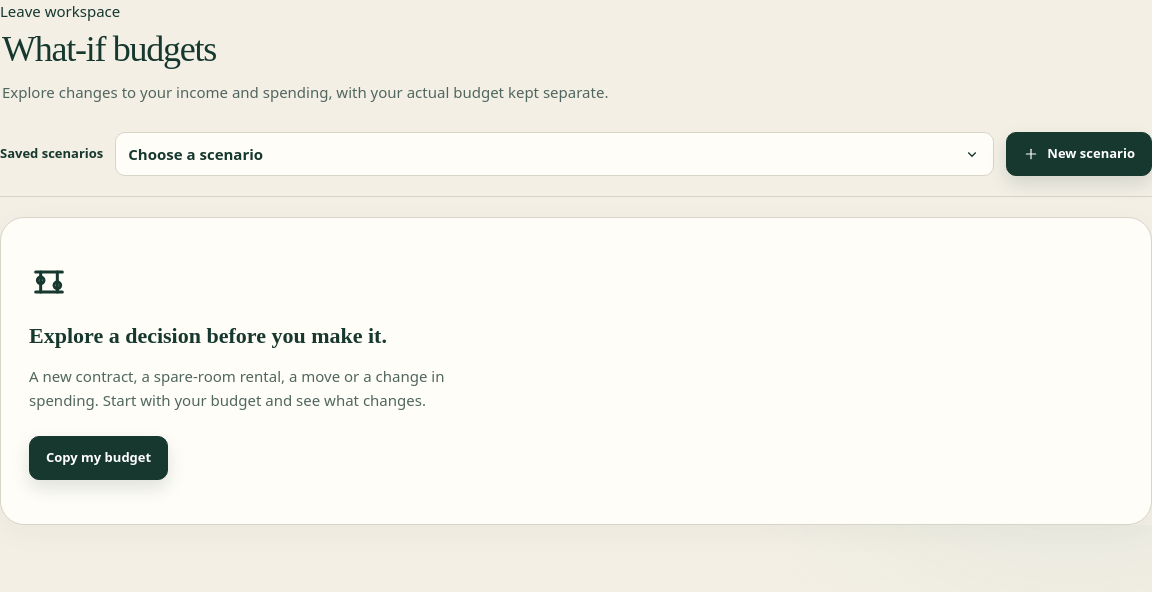
Test: workspace integration › reloads the latest saved version after a conflict with explicit confirmation
Press ArrowDown in the dropdown named "Saved scenarios", box [115,132,994,176]
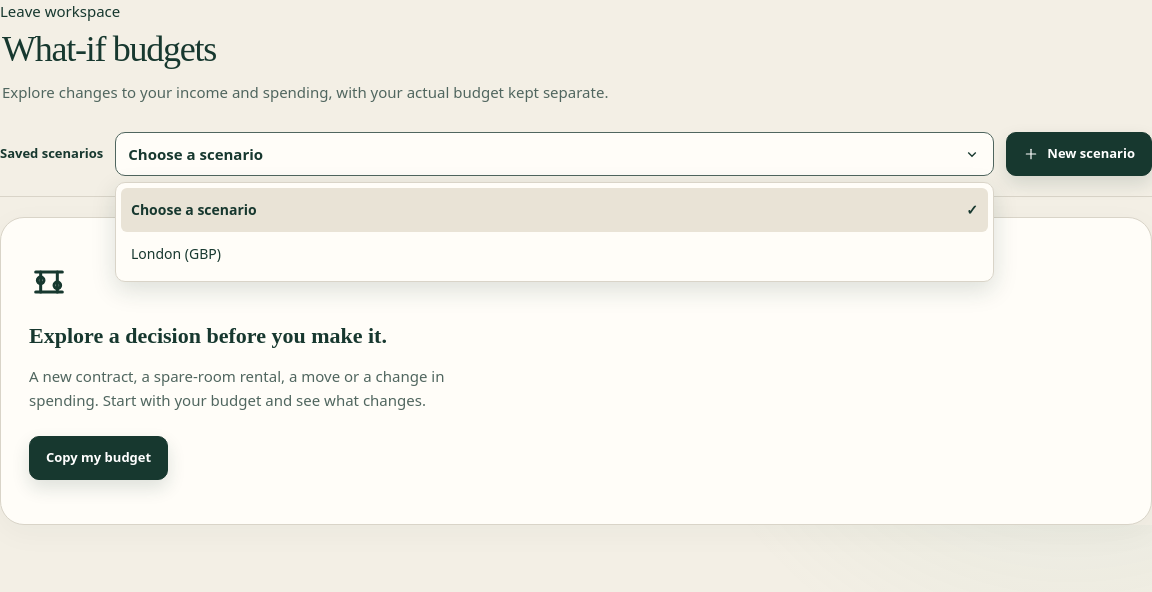
Press Enter in the option "London (GBP)", box [131,244,221,263]
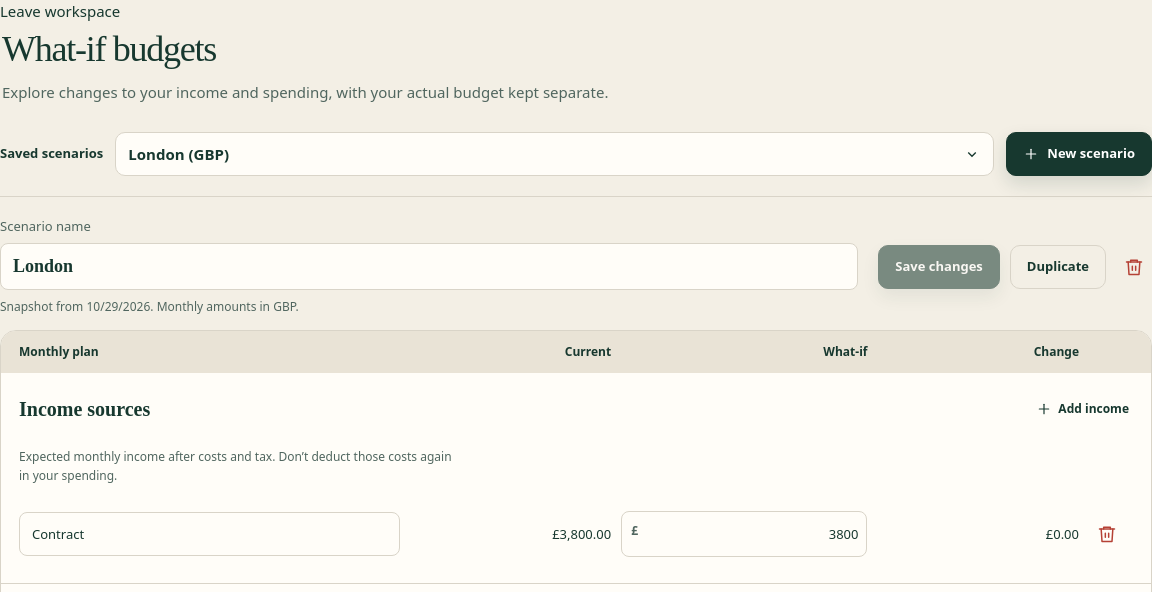
Replace the text in the field named "Contract monthly amount" with "5000". click: (752, 534)
box: [638,512,866,556]
Wait 6000 ms
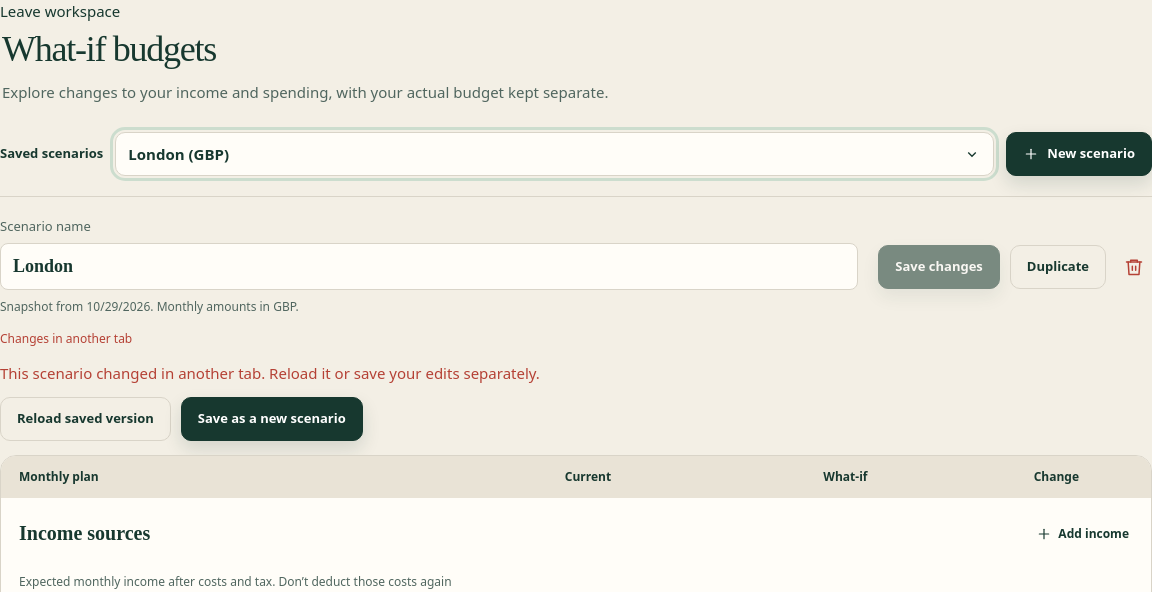
Click the button "Reload saved version". click: (85, 419)
box: [0,397,171,441]
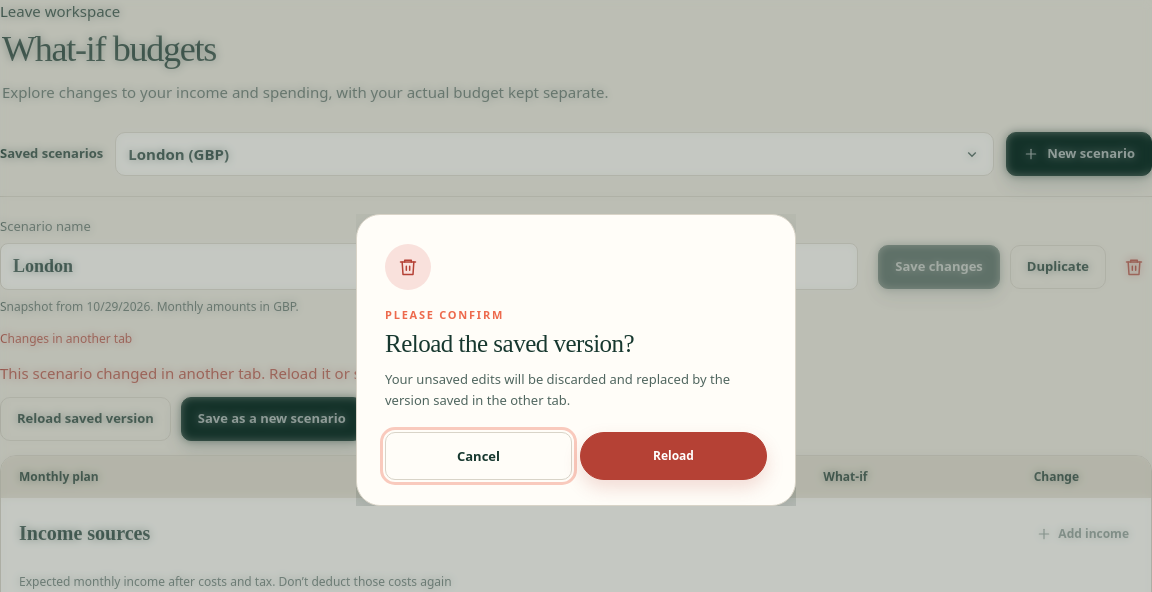
Click the button "Reload". click: (674, 456)
box: [580,432,767,480]
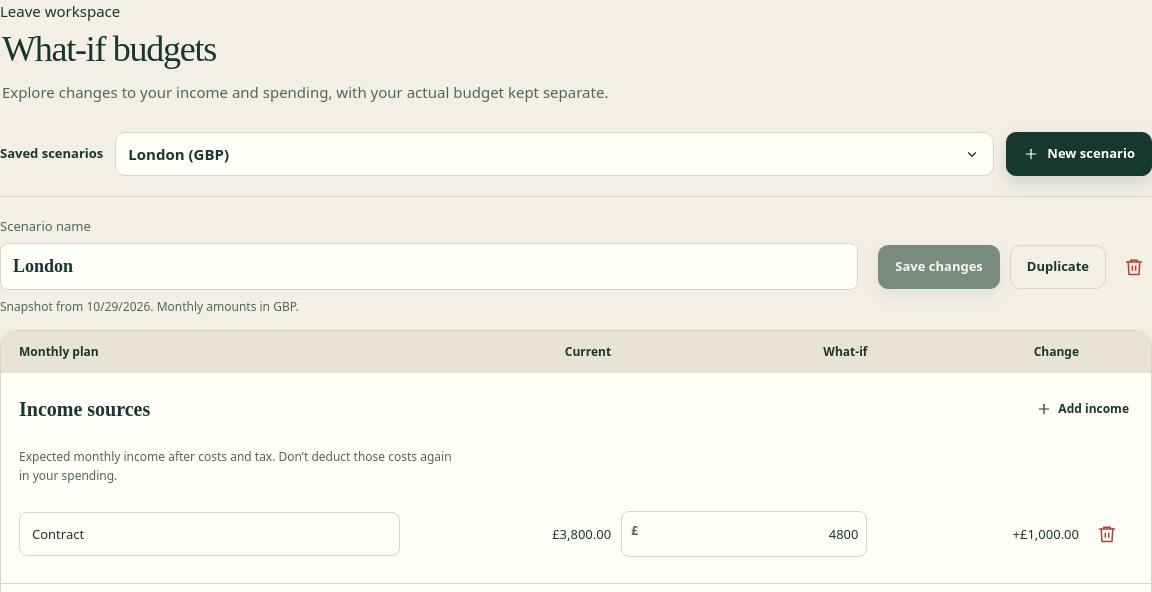
Now the field named "Contract monthly amount" holds "4800", box [638,512,866,556]
